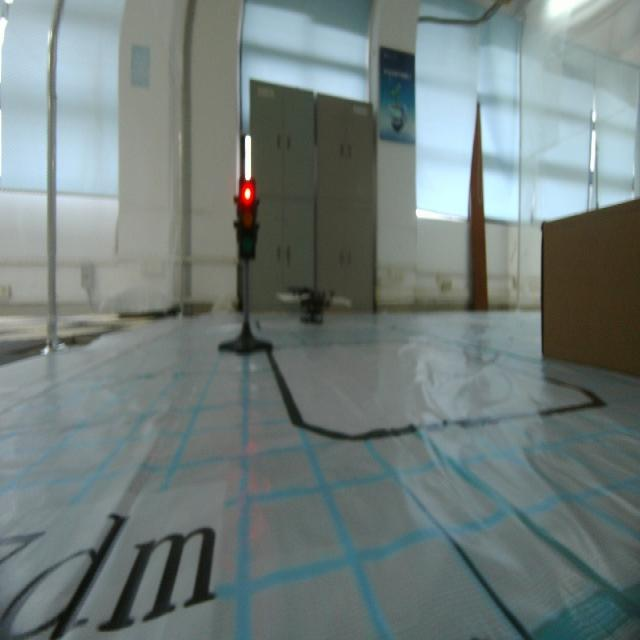red: (233, 179, 261, 264)
